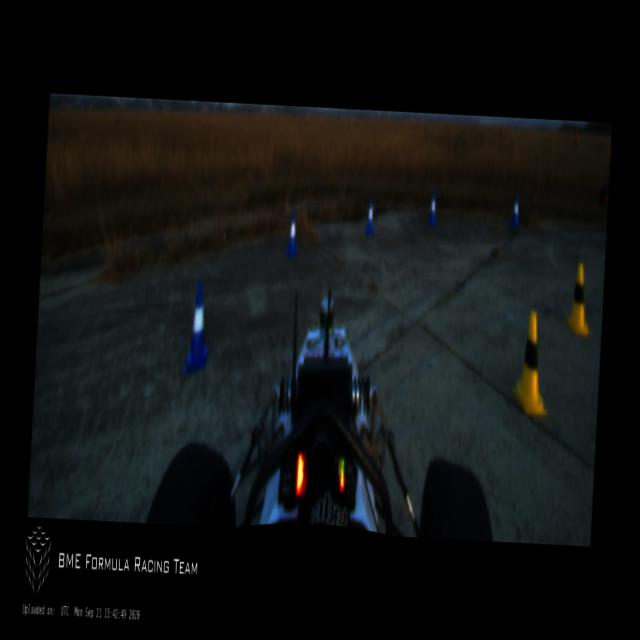blue_cone: (185, 282, 212, 372), (286, 208, 300, 257), (366, 200, 376, 237), (428, 190, 438, 227), (511, 195, 521, 228)
yellow_cone: (511, 310, 553, 416), (564, 264, 595, 338)
